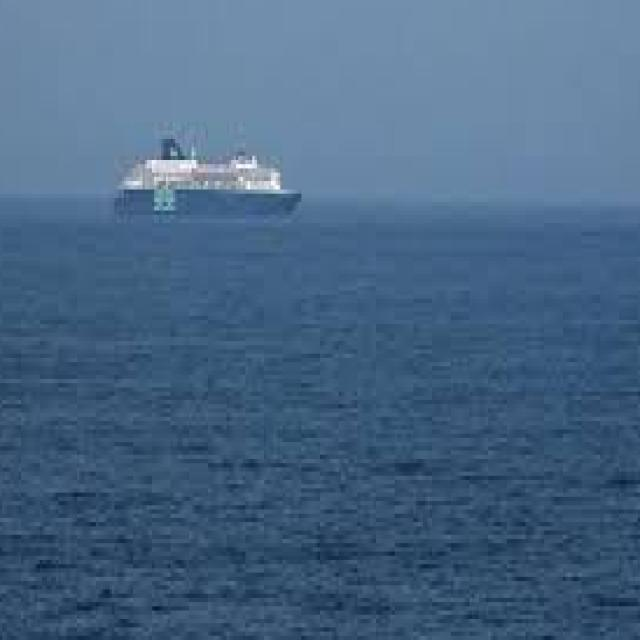passenger ship: (110, 117, 303, 224)
